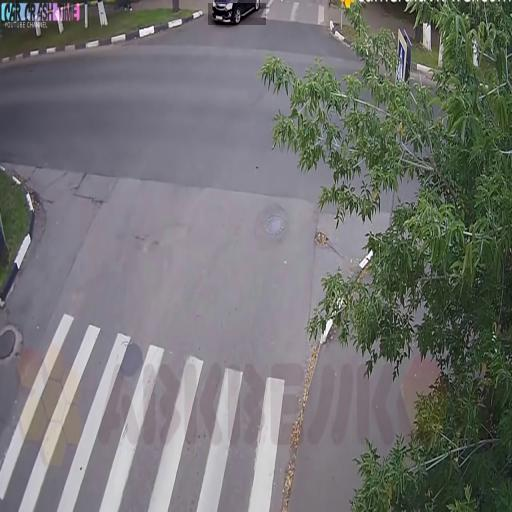小汽车: (208, 4, 266, 26)
